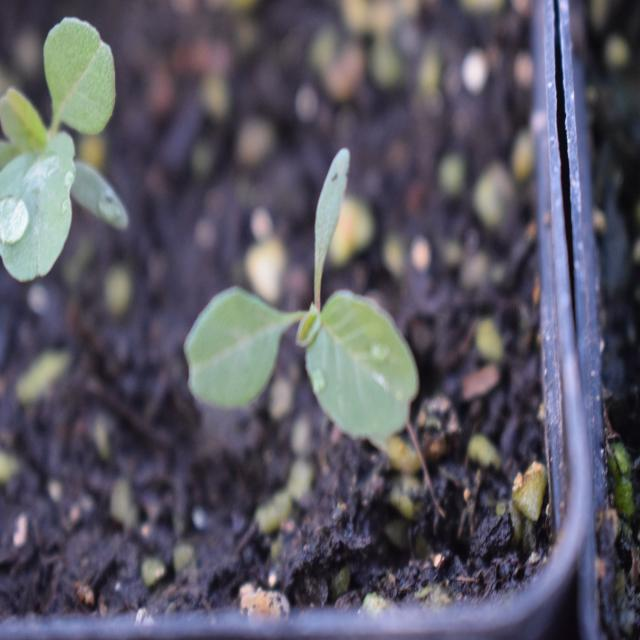pigweed: (184, 155, 410, 464)
